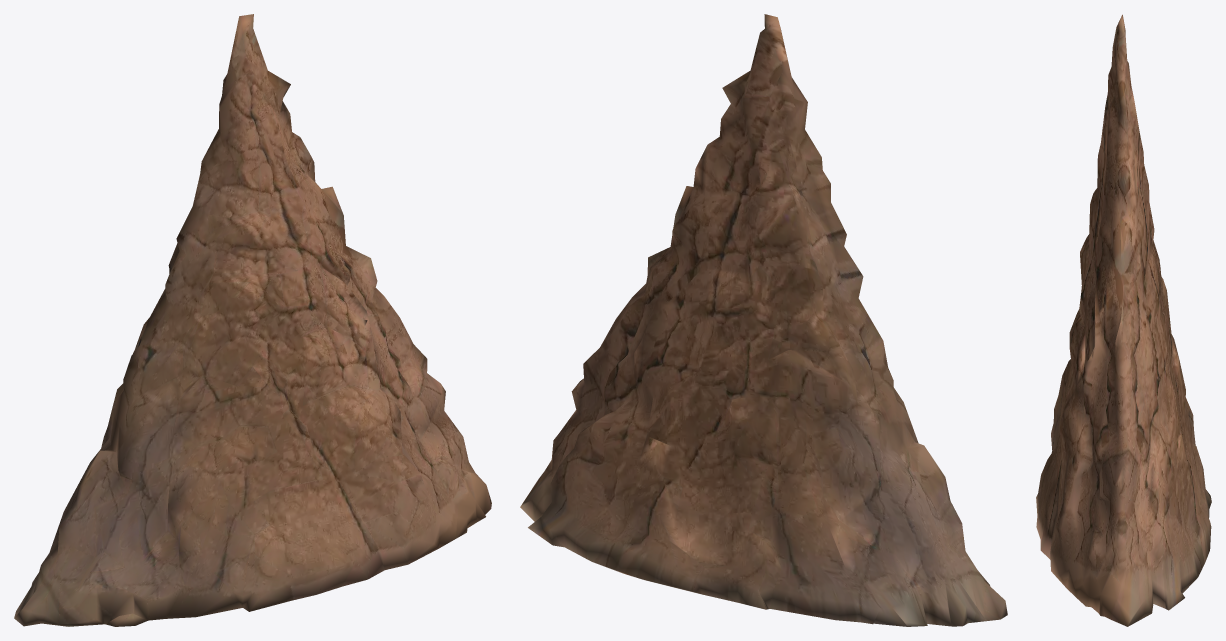
Rendered from toad-prop3d-mound-c.glb.
3 renders of one model, left to right at view 1: azimuth 30°, elevation 25°; view 2: azimuth 150°, elevation 25°; view 3: azimuth 270°, elevation 25°, orthographic. The views are drawn at different scales.
Visible parts, largest first — view 1: world; view 2: world; view 3: world.
Part boxes in pixels (x1,y1,x2,y2): world: (14, 14, 491, 626); world: (520, 14, 1007, 626); world: (1036, 14, 1211, 626).
Bounding box in the file's own units: 0.2 × 0.22 × 0.07.
1 material, 1 textured.
